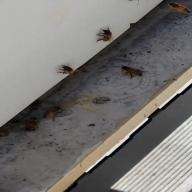Bee: (163, 0, 190, 19), (96, 27, 121, 46), (57, 62, 77, 78)
